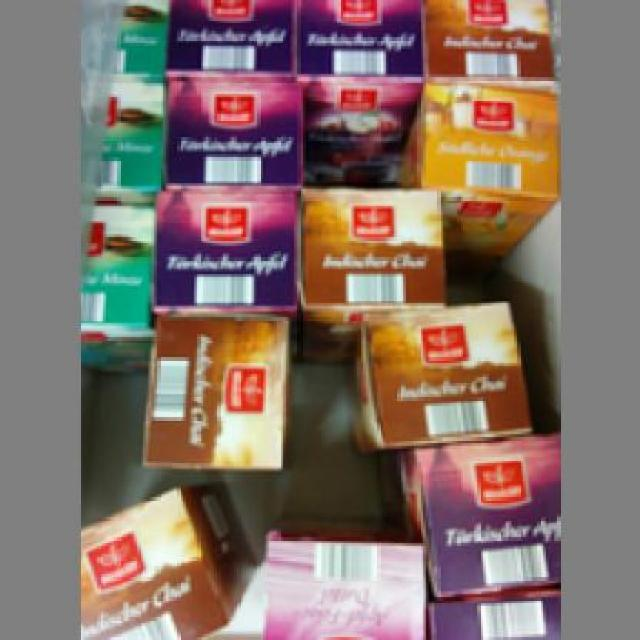Tea: (394, 80, 554, 271), (343, 300, 531, 446), (82, 477, 252, 637), (134, 312, 286, 468), (300, 180, 440, 349), (294, 0, 423, 183), (152, 188, 294, 308)
